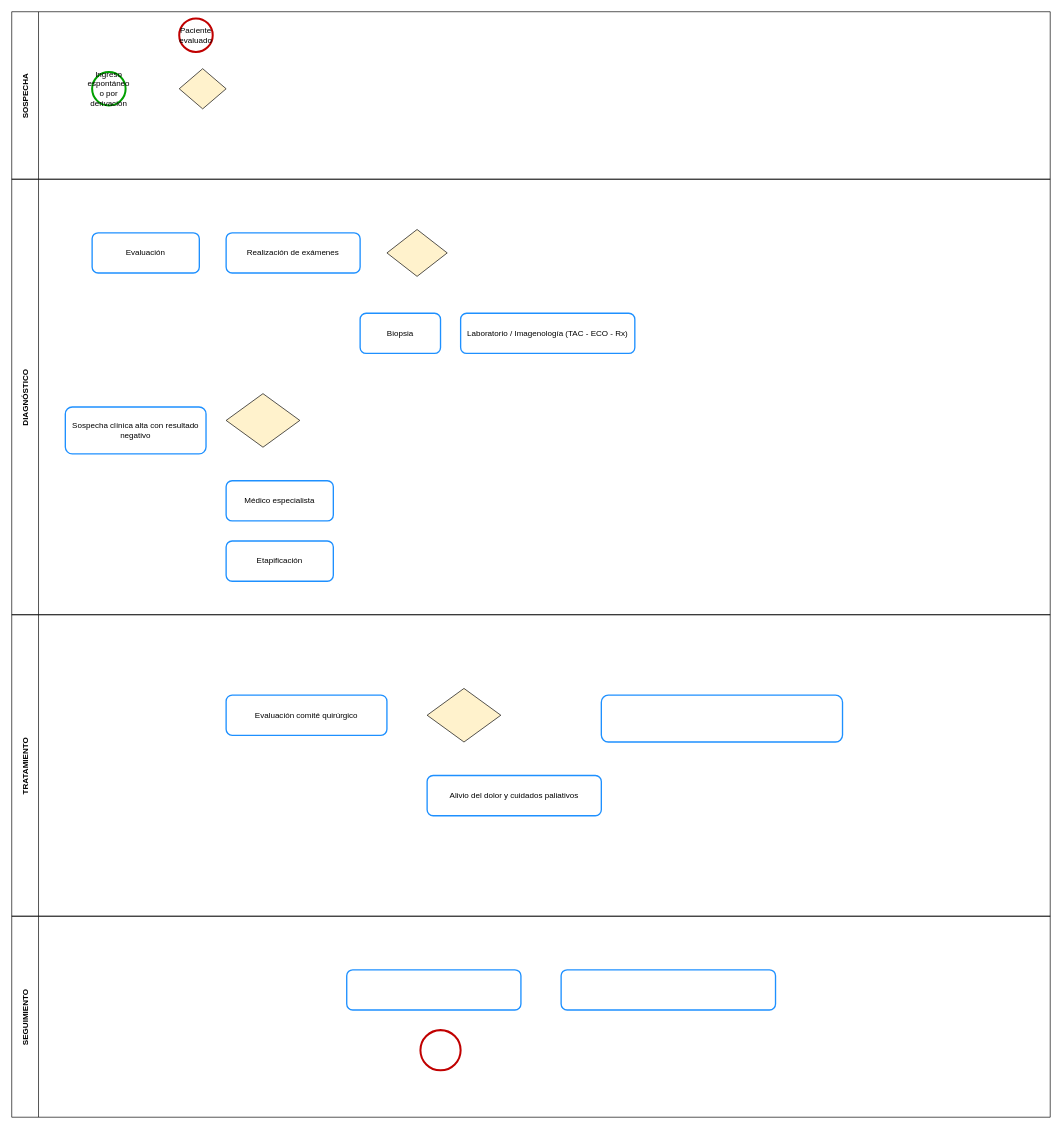
Some shapes in this 1062 by 1129 pixel diagram are drawn without their labels. Here are the shapes that lost their labels. From the top down, the box of each, then its label:
(179, 68, 226, 109): ¿Existe sospecha Ca?
(386, 229, 447, 276): ¿Exámenes disponibles?
(225, 393, 300, 447): ¿Se confirma diagnóstico?
(426, 688, 501, 742): ¿Tiene opción de tratamiento?
(600, 694, 843, 742): Tratamiento (Radioterapia / Quirúrgico / Farmacológico)
(346, 969, 521, 1010): Tratamiento y seguimiento
(560, 969, 776, 1010): Tratamiento con equipo multidisciplinario
(419, 1029, 461, 1071): Alta o fallecimiento
